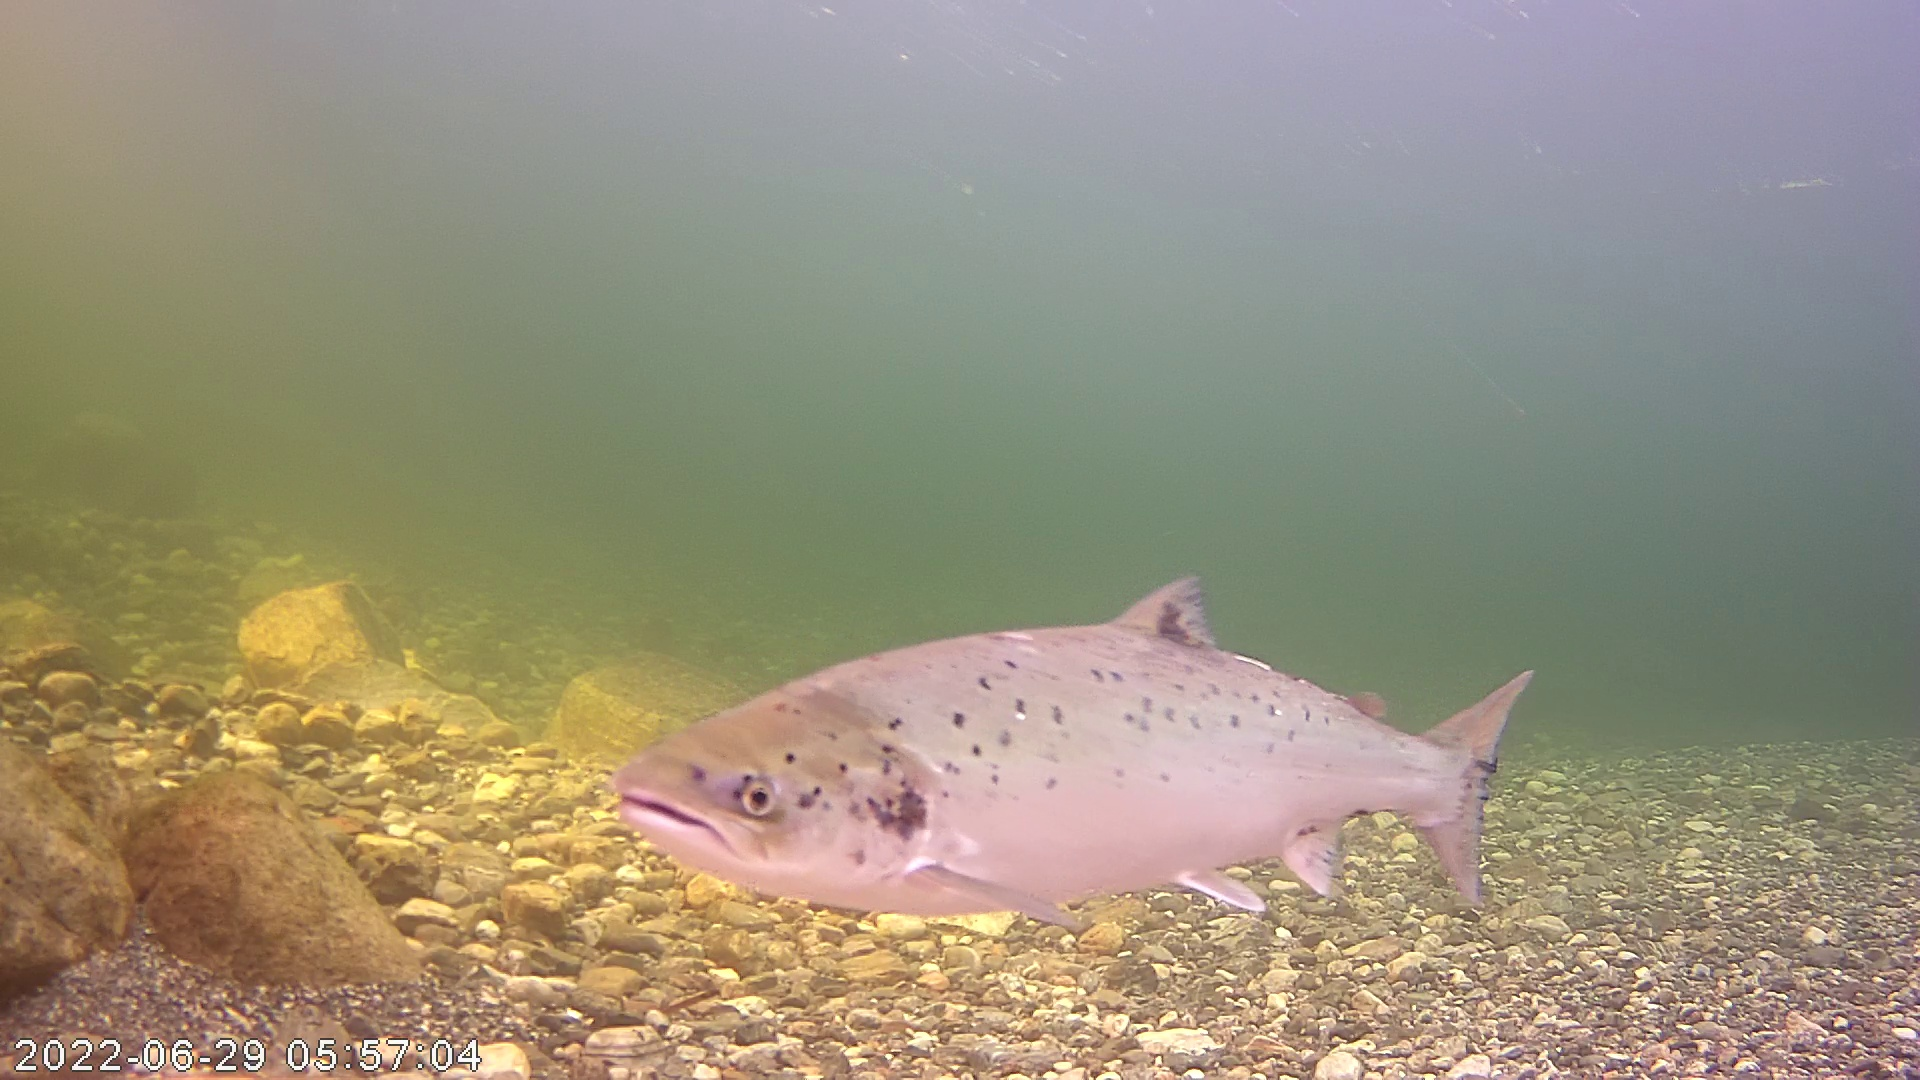salmon: (625, 520, 1534, 938)
